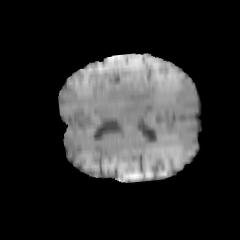glioma: (101, 64, 160, 111)
